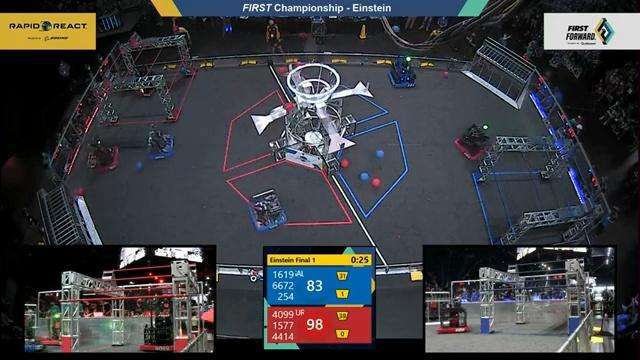robot: (139, 115, 179, 162), (245, 189, 287, 233), (451, 120, 496, 161), (140, 299, 174, 353), (384, 49, 425, 91), (83, 132, 121, 177), (436, 303, 471, 336), (26, 311, 46, 354)
